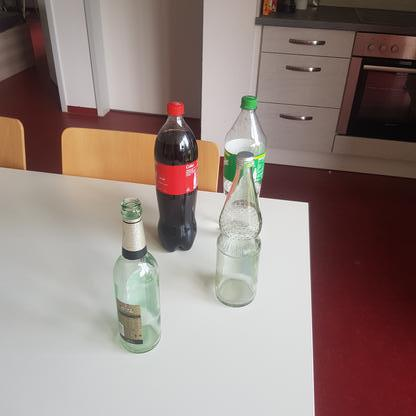coca-cola: (153, 99, 200, 254)
